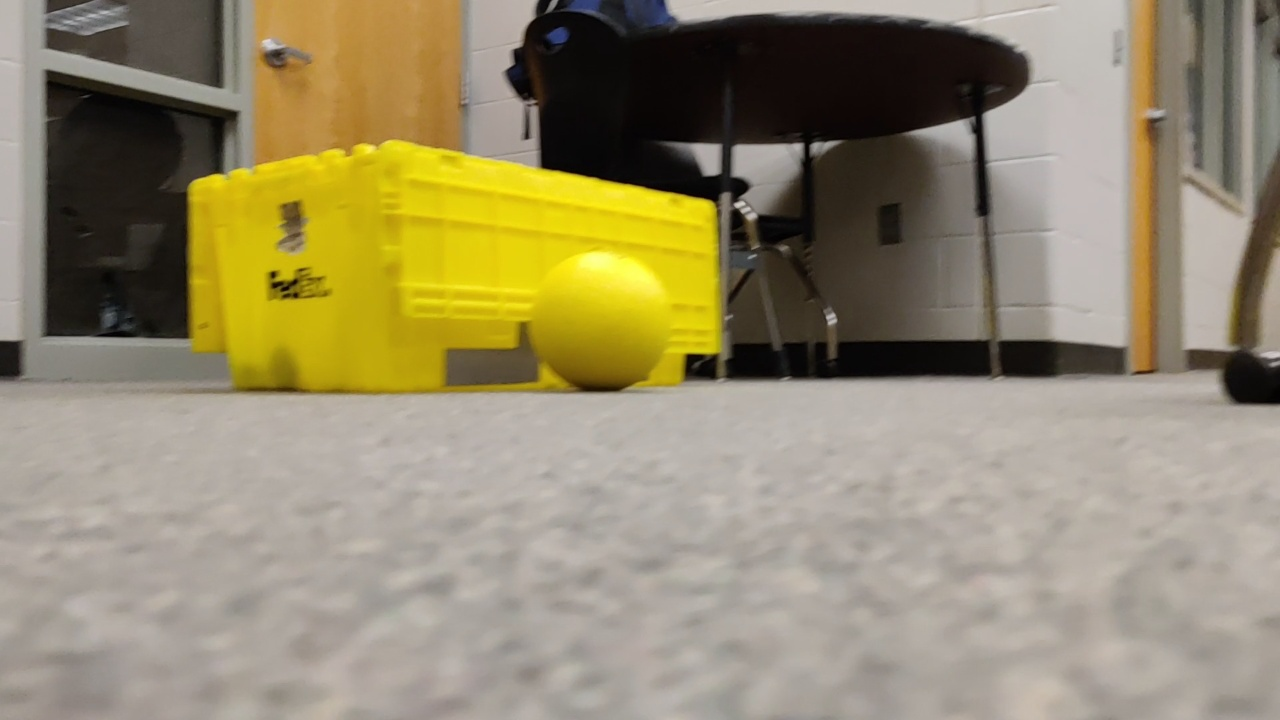Ball: (529, 247, 677, 404)
